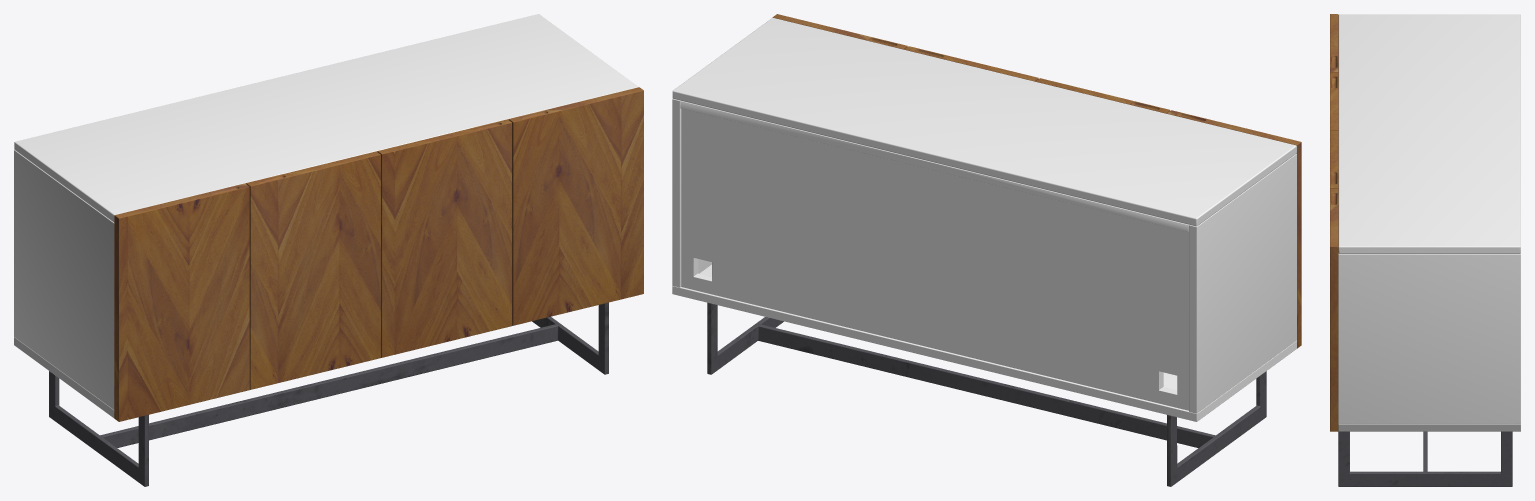
The picture shows the model from 3 angles, left to right: view 1: azimuth 30°, elevation 25°; view 2: azimuth 150°, elevation 25°; view 3: azimuth 270°, elevation 25°; orthographic projection. The views are drawn at different scales.
Parts seen in each view (by area): view 1: Stand_01:AssemblyMT_CB2_Table_suspendFBXASC032mediaFBXASC032; view 2: Stand_01:AssemblyMT_CB2_Table_suspendFBXASC032mediaFBXASC032; view 3: Stand_01:AssemblyMT_CB2_Table_suspendFBXASC032mediaFBXASC032.
Part boxes in pixels (bbox=[...]): Stand_01:AssemblyMT_CB2_Table_suspendFBXASC032mediaFBXASC032: bbox=[14, 14, 643, 486]; Stand_01:AssemblyMT_CB2_Table_suspendFBXASC032mediaFBXASC032: bbox=[672, 14, 1301, 486]; Stand_01:AssemblyMT_CB2_Table_suspendFBXASC032mediaFBXASC032: bbox=[1330, 14, 1520, 486].
Size of the model in its own units: 1.53 by 0.7791 by 0.5306.
Materials: 1 (1 with a texture image).
